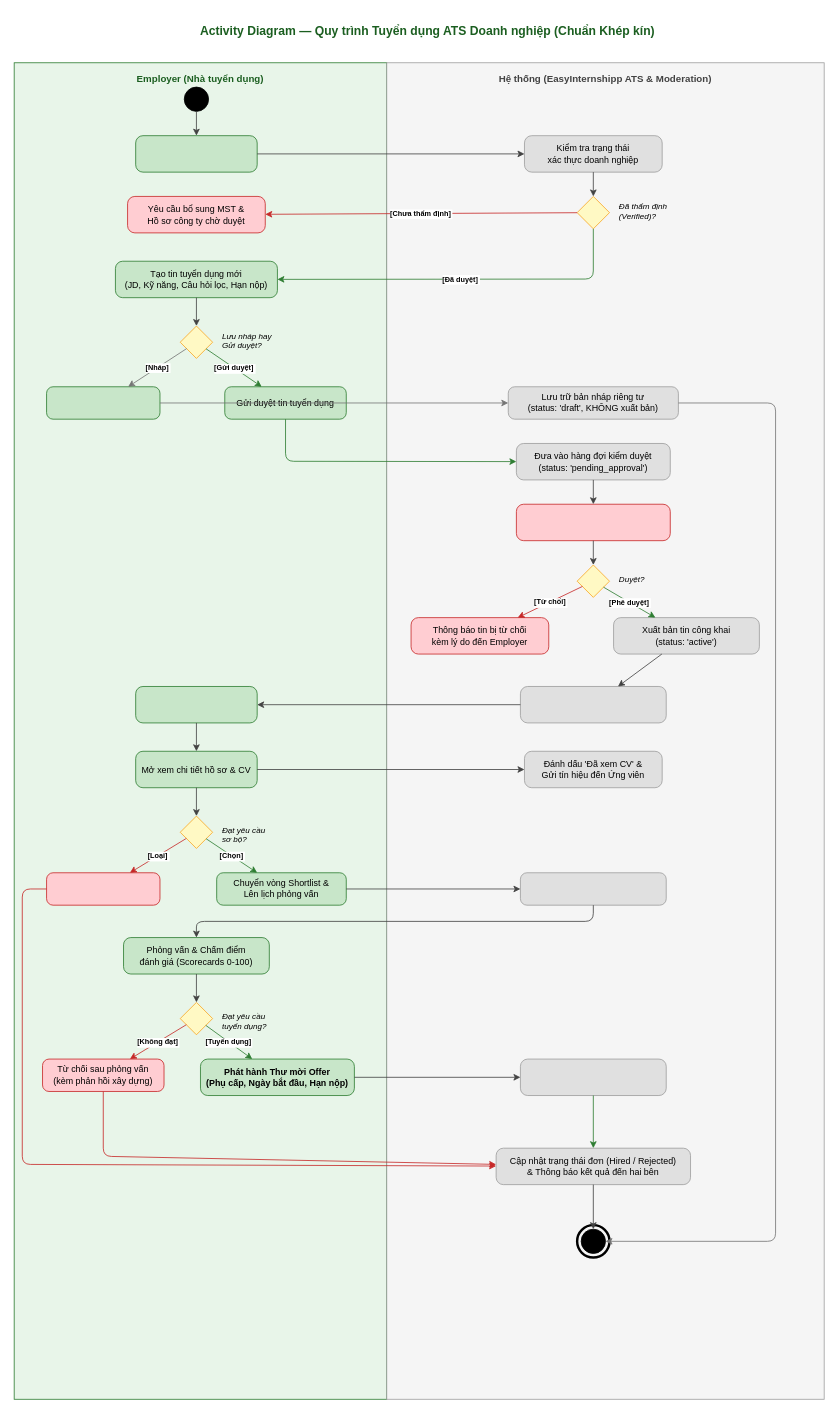
The diagram is 838 pixels wide and 1413 high, and some of its shapes have lost their labels. The shapes that lost their labels are listed below. From the top down, each one's centre as x and y in pixels, then its label:
At (x=196, y=153): "Đăng nhập tài khoản Doanh nghiệp".
At (x=103, y=402): "Lưu bản nháp (Draft)".
At (x=593, y=522): "Admin kiểm duyệt nội dung & phụ cấp thực tập".
At (x=196, y=704): "Xem danh sách ứng viên trên Bảng Kanban".
At (x=593, y=704): "Tiếp nhận hồ sơ ứng tuyển từ Sinh viên (status: 'applied')".
At (x=103, y=888): "Từ chối hồ sơ sớm (chọn lý do cụ thể)".
At (x=593, y=888): "Gửi thư mời phỏng vấn & Chờ sinh viên xác nhận (RSVP)".
At (x=593, y=1077): "Gửi Offer & Chờ sinh viên phản hồi (Chấp thuận / Từ chối)".
